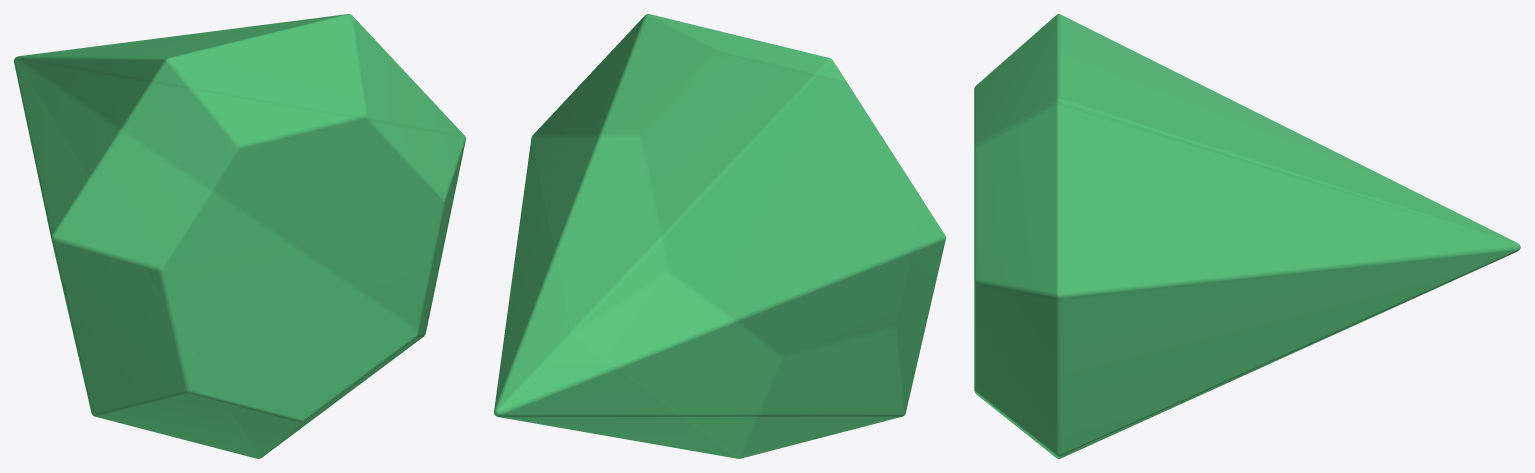
File: emeraldtransparent.fbx
3 renders of one model, left to right at view 1: azimuth 30°, elevation 25°; view 2: azimuth 150°, elevation 25°; view 3: azimuth 270°, elevation 25°, orthographic. The views are drawn at different scales.
Parts seen in each view (by area): view 1: Cone; view 2: Cone; view 3: Cone.
Part boxes in pixels (box(x1,y1,x2,y2)): Cone: box(14, 14, 465, 458); Cone: box(494, 14, 945, 458); Cone: box(974, 14, 1520, 458).
Bounding box in the file's own units: 194 × 189 × 233.
